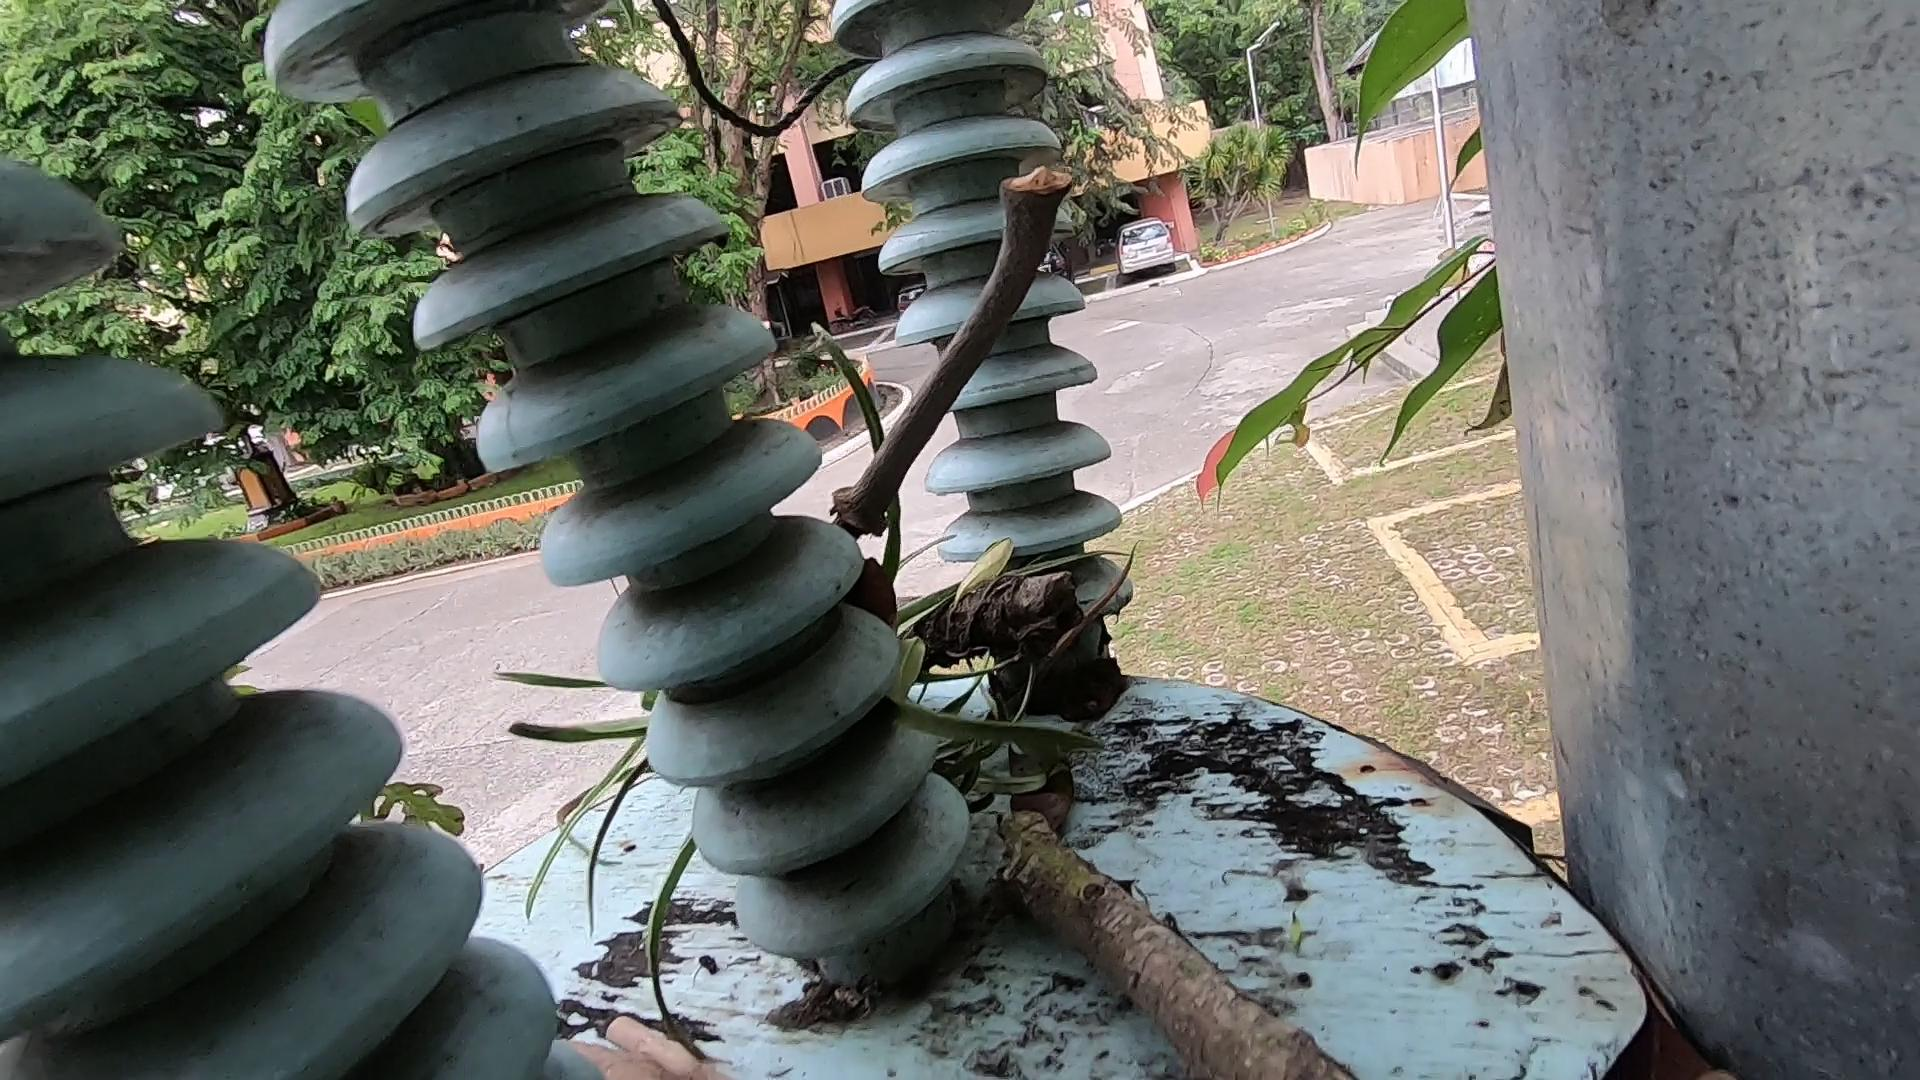branch with leaves: (771, 429, 1328, 1019)
tree branch: (800, 109, 1097, 585)
